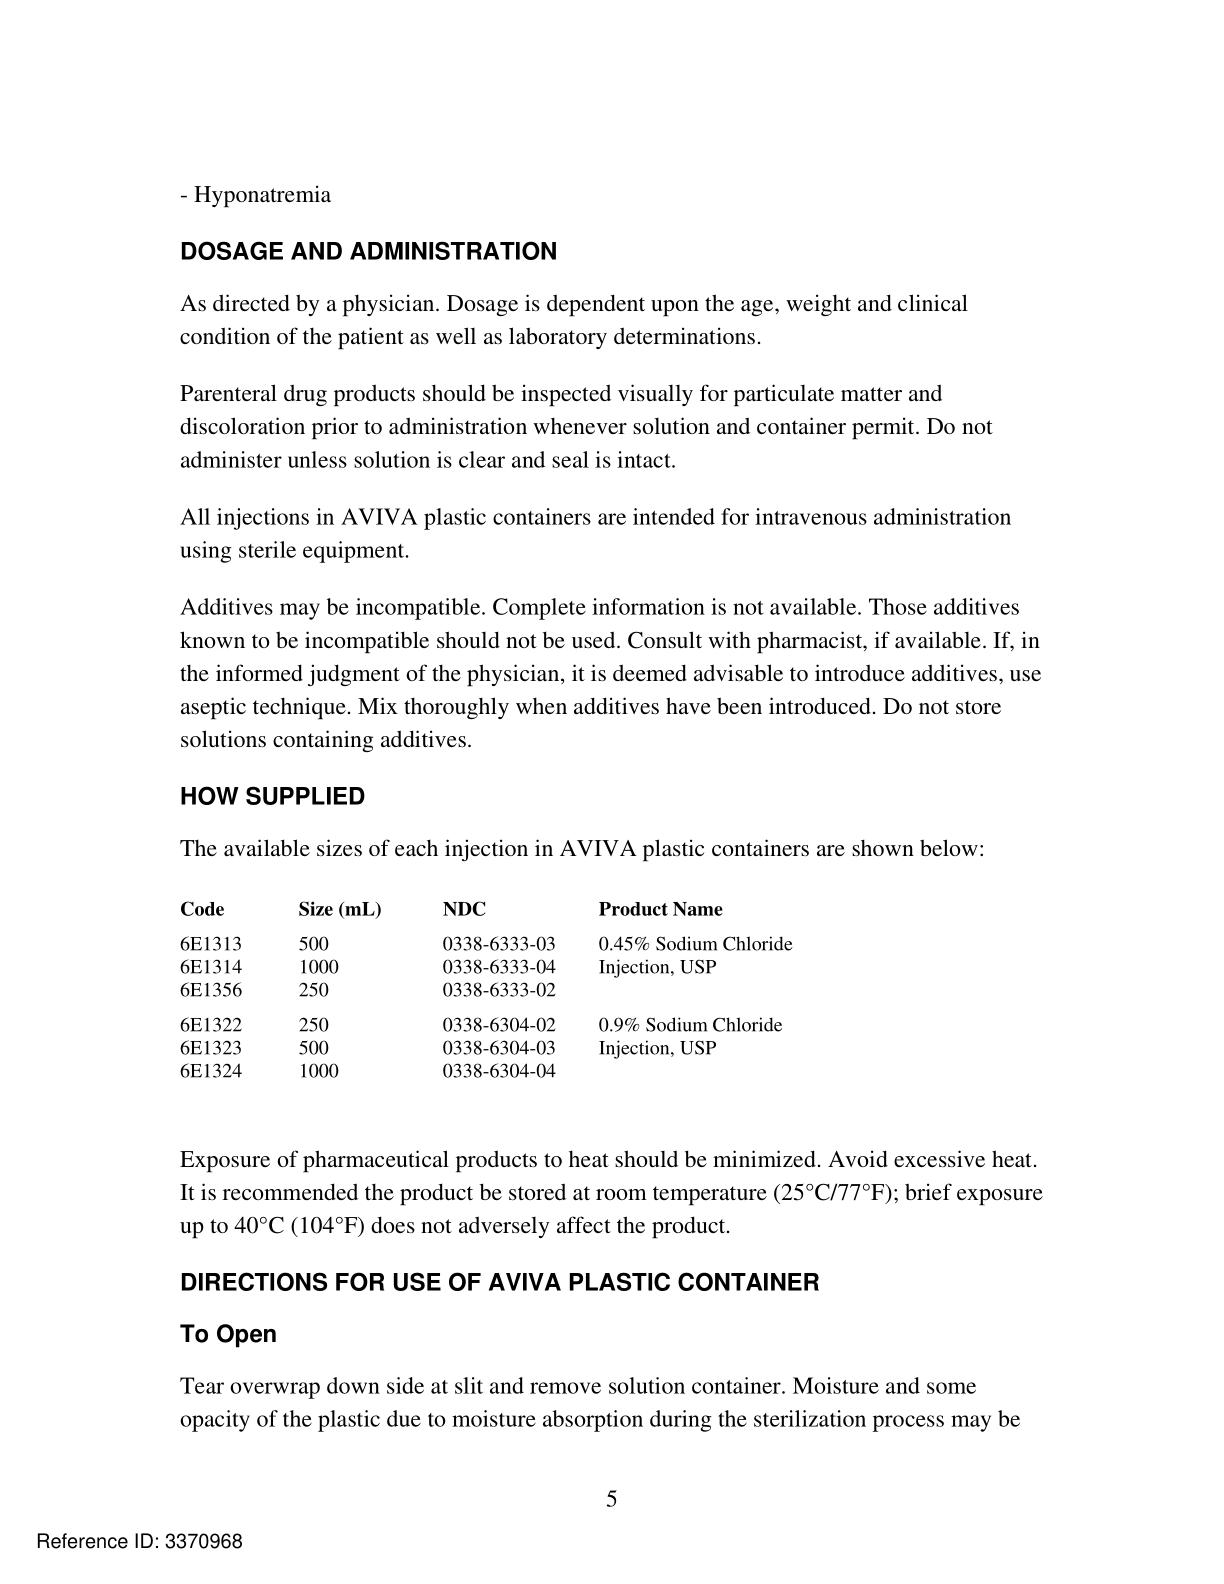nolines: (175, 896, 795, 1080)
